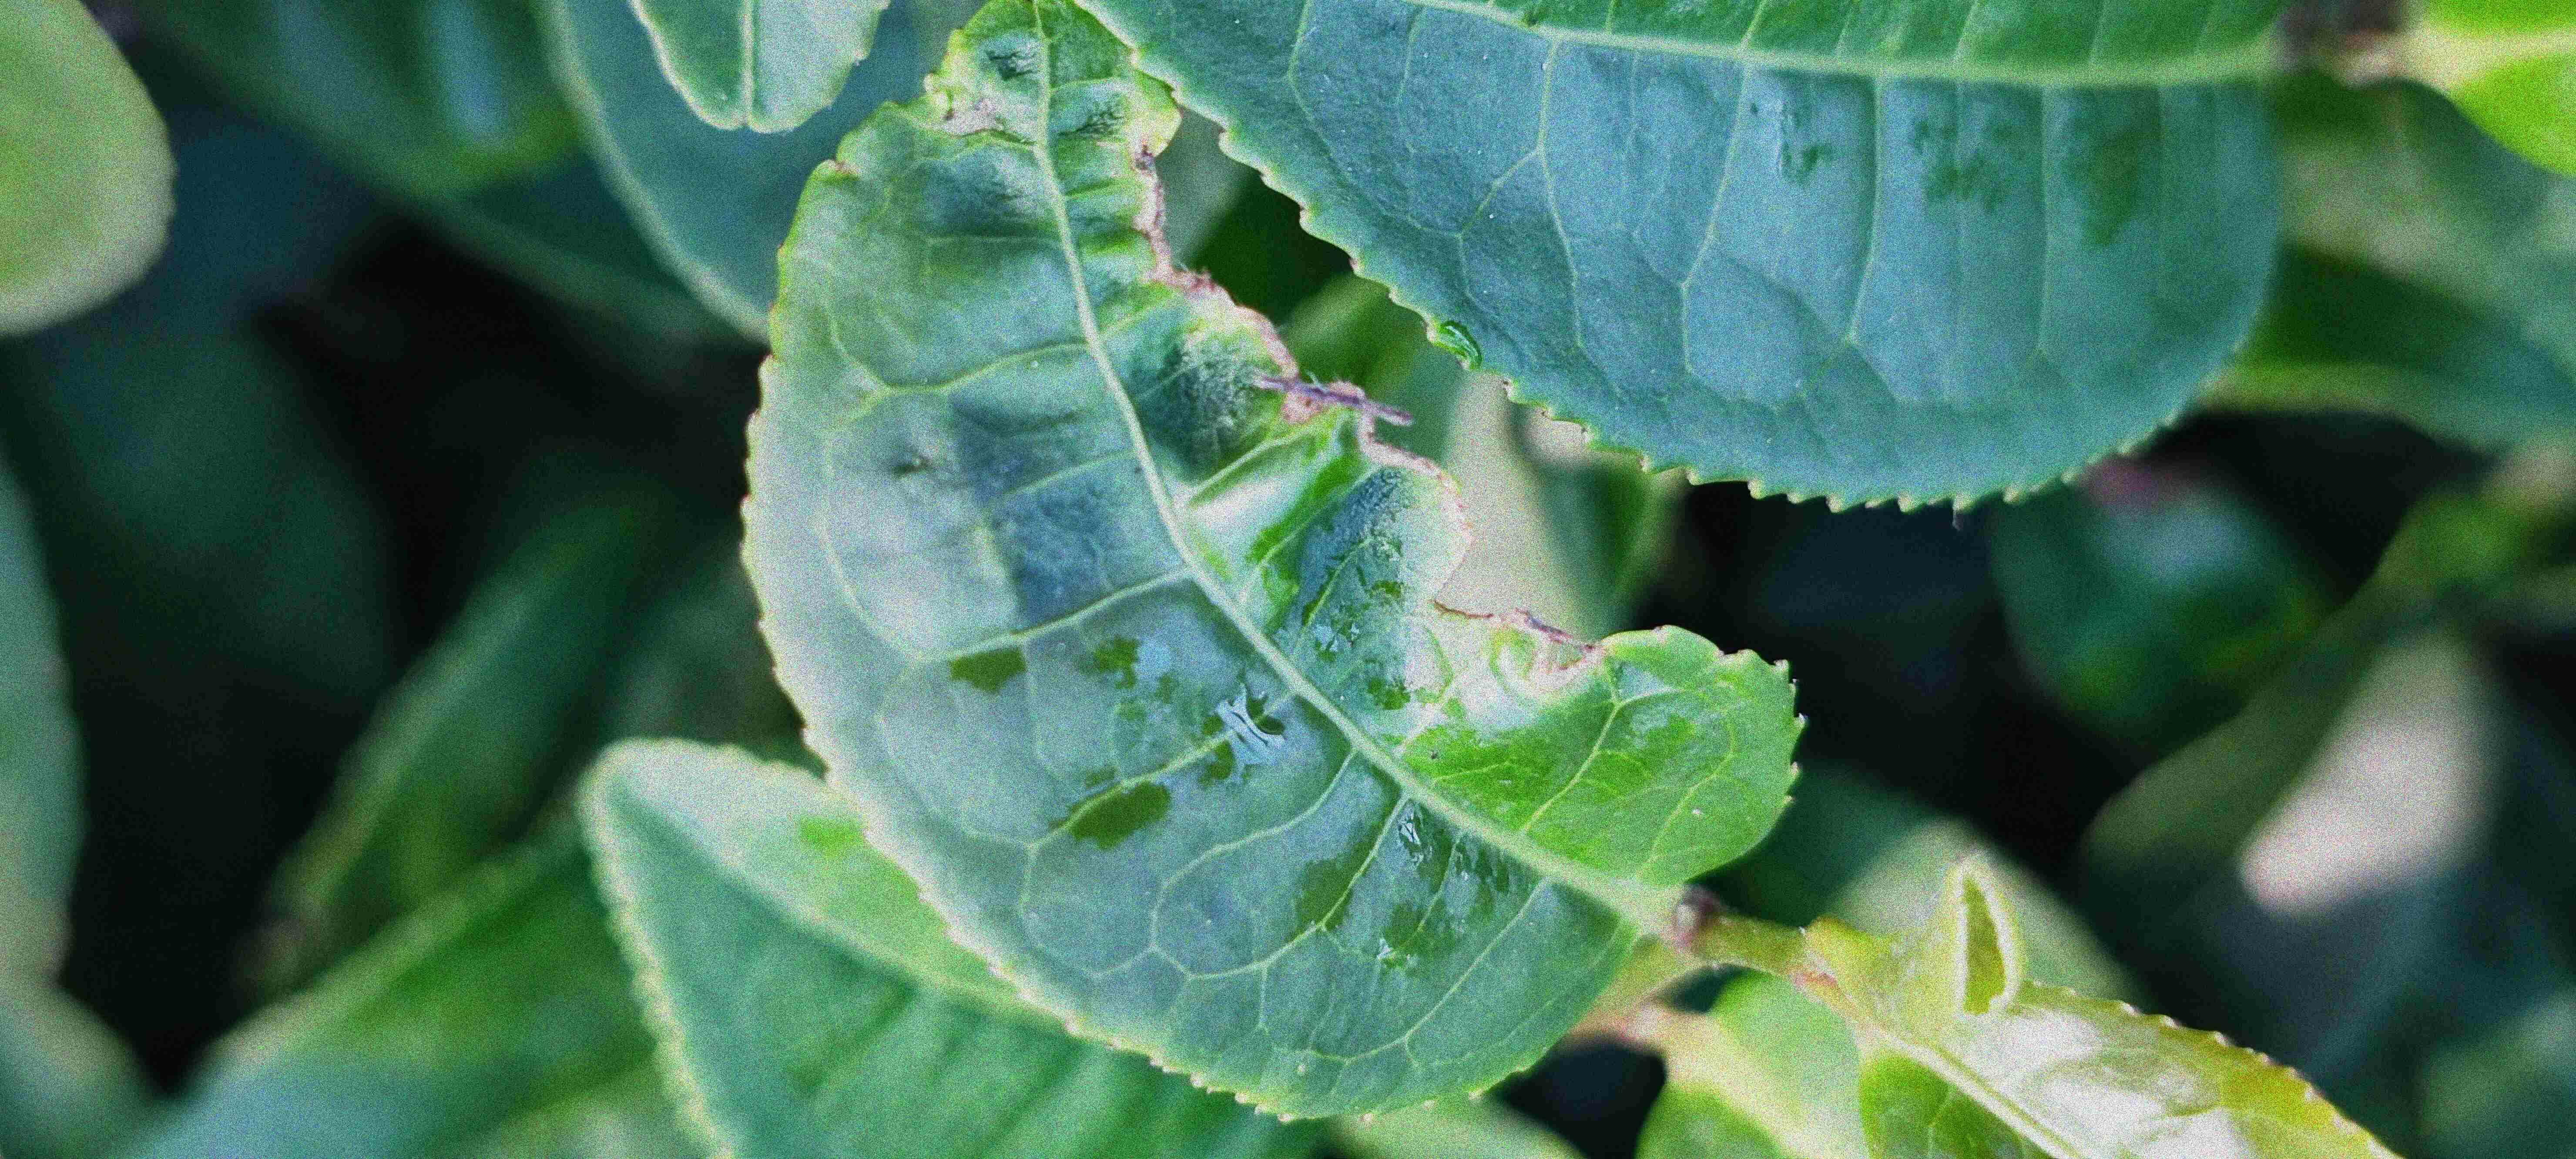chihuo_low: (734, 0, 1812, 1128)
healthy: (1050, 7, 2287, 520), (577, 735, 1321, 1157)
